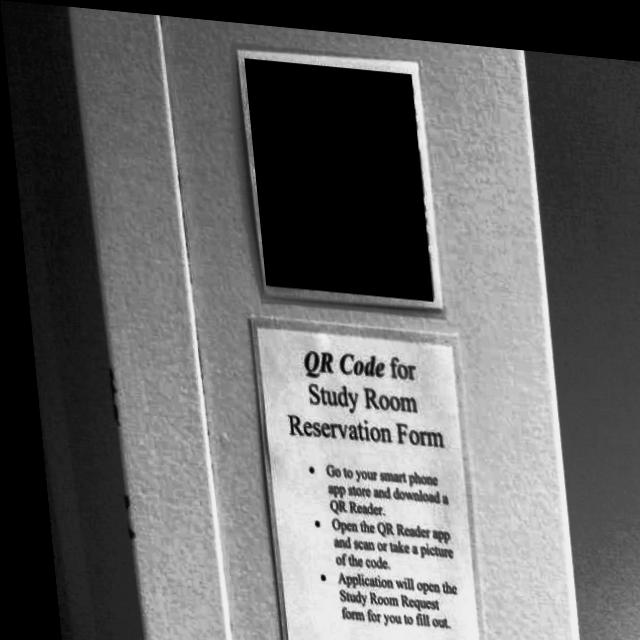qr_code: (244, 54, 428, 293)
